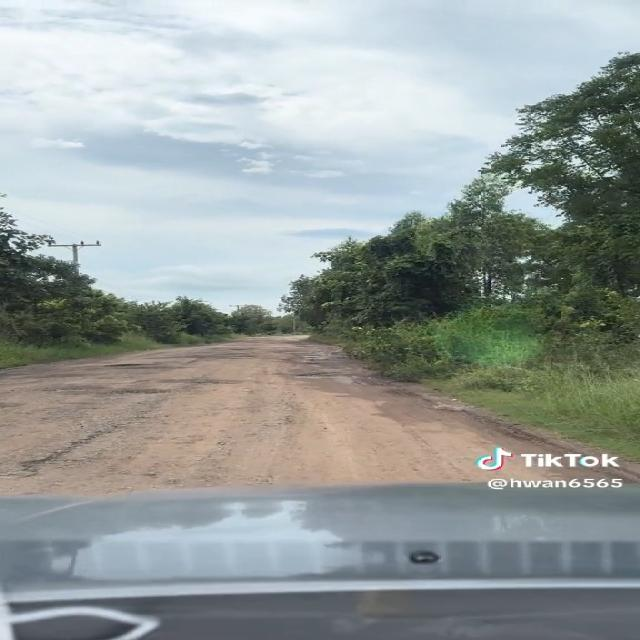Poth-hole: (76, 391, 172, 486)
